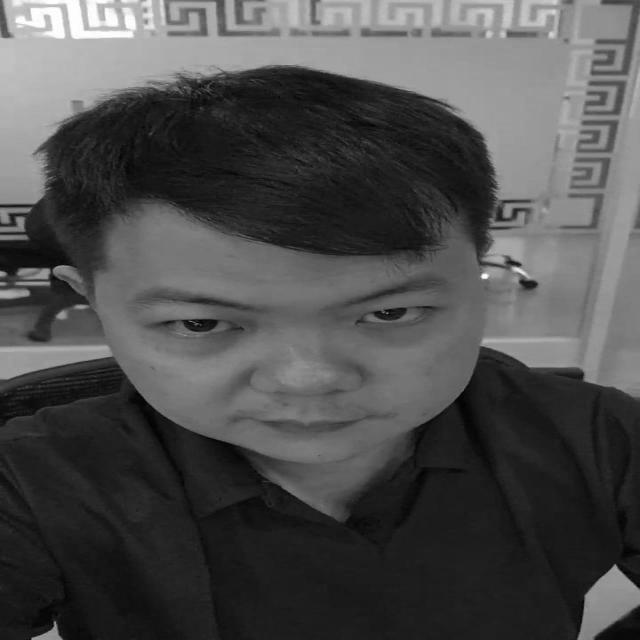real: (82, 174, 484, 459)
